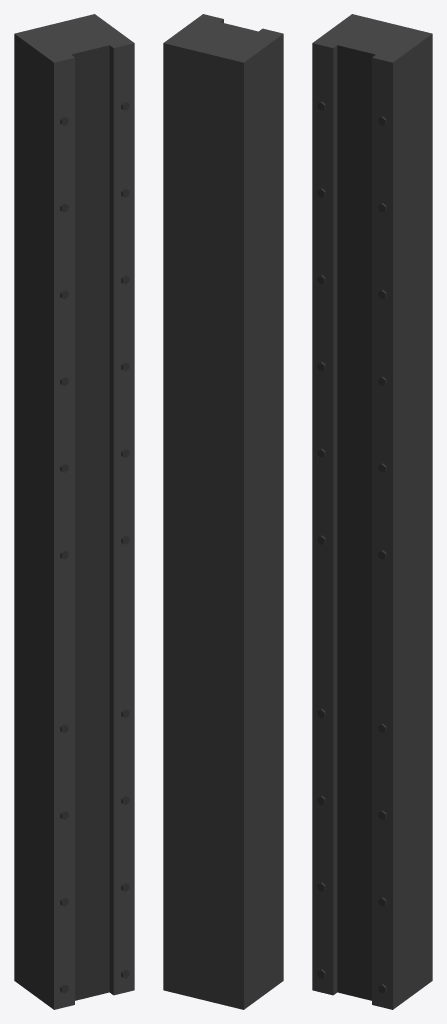
The model's file is WallPart_01.fbx.
The picture shows the model from 3 angles, left to right: view 1: azimuth 30°, elevation 25°; view 2: azimuth 150°, elevation 25°; view 3: azimuth 330°, elevation 25°; orthographic projection.
Visible parts, largest first — view 1: WallPart_01; view 2: WallPart_01; view 3: WallPart_01.
Boxes of the visible parts, box(x1,y1,x2,y2) form: WallPart_01: box(14, 14, 134, 1009); WallPart_01: box(163, 14, 283, 1009); WallPart_01: box(312, 14, 432, 1009).
Size of the model in its own units: 80 by 900 by 70.68.
